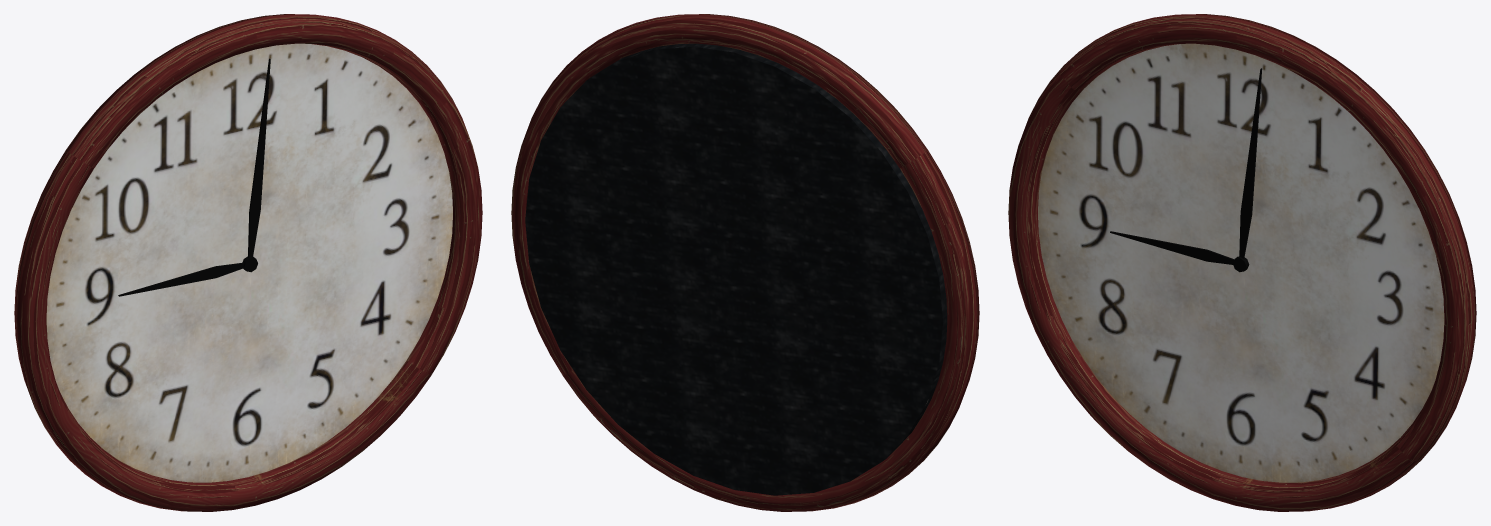
Rendered from clock_0901.fbx.
3 views of the same model, side by side, from view 1: azimuth 30°, elevation 25°; view 2: azimuth 150°, elevation 25°; view 3: azimuth 330°, elevation 25° (orthographic).
Visible parts, largest first — view 1: clock, minute_hand, hour_hand; view 2: clock; view 3: clock, minute_hand, hour_hand.
Boxes of the visible parts, x1,y1,x2,y2 form: clock: (14, 14, 482, 511); minute_hand: (248, 58, 270, 257); hour_hand: (118, 262, 243, 296); clock: (511, 14, 979, 511); clock: (1008, 14, 1476, 511); minute_hand: (1239, 68, 1262, 258); hour_hand: (1110, 231, 1234, 264).
Bounding box in the file's own units: 0.4471 × 0.0308 × 0.4471.
Materials: 1 (1 with a texture image).
